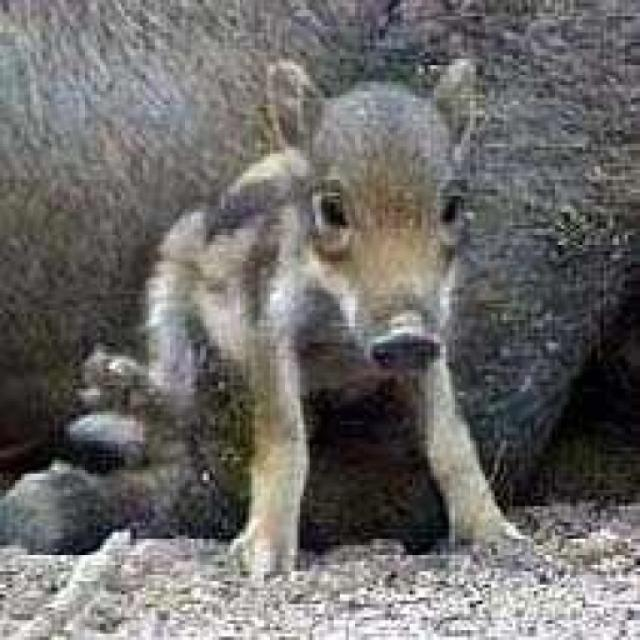pig: (129, 33, 537, 564)
